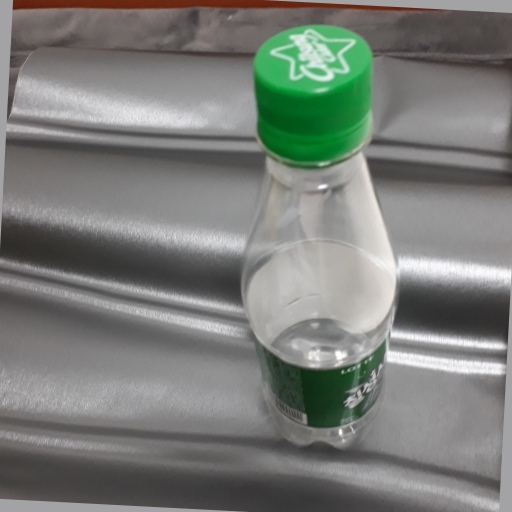Plastic_0: (237, 23, 398, 452)
